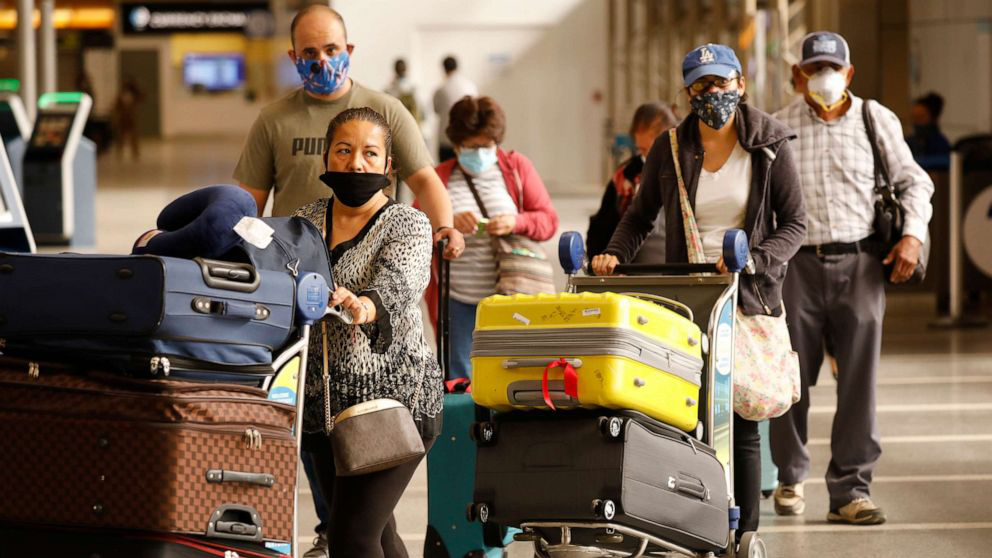mask_weared_incorrect: (319, 120, 395, 211)
with_mask: (291, 14, 355, 97)
